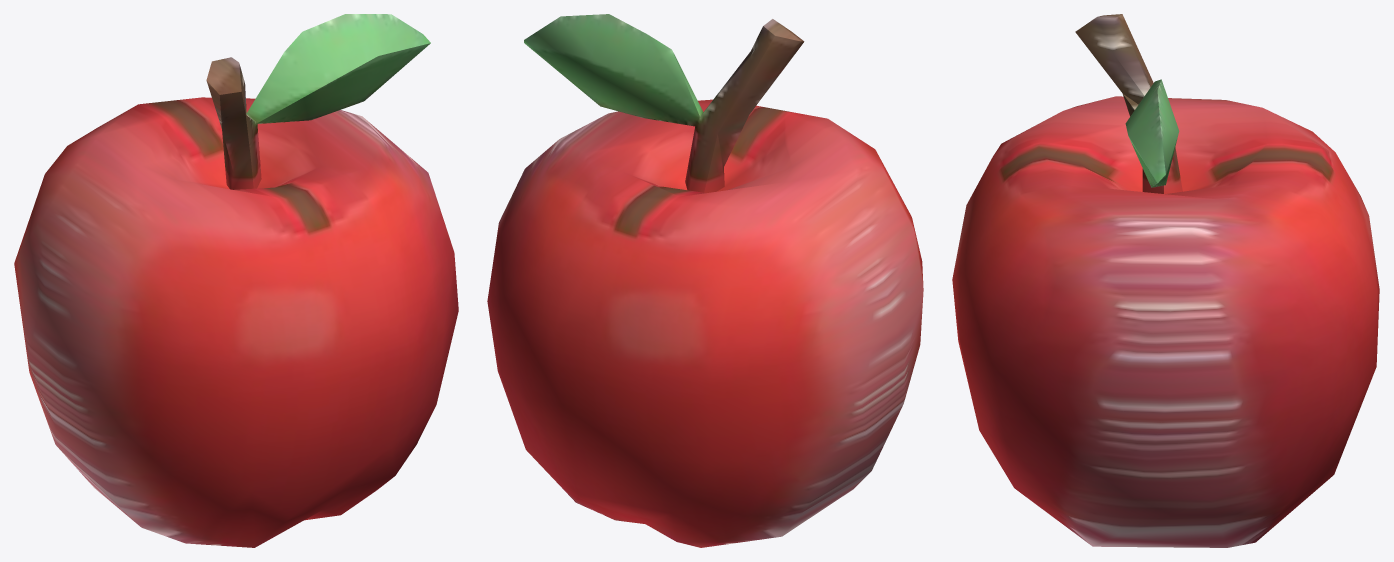
3 renders of one model, left to right at view 1: azimuth 30°, elevation 25°; view 2: azimuth 150°, elevation 25°; view 3: azimuth 270°, elevation 25°, orthographic. The views are drawn at different scales.
Visible parts, largest first — view 1: apple.001; view 2: apple.001; view 3: apple.001.
Boxes of the visible parts, x1,y1,x2,y2 form: apple.001: [14, 14, 458, 547]; apple.001: [487, 14, 923, 547]; apple.001: [952, 14, 1379, 547].
Bounding box in the file's own units: 0.0813 × 0.0954 × 0.0786.
1 material, 1 textured.
